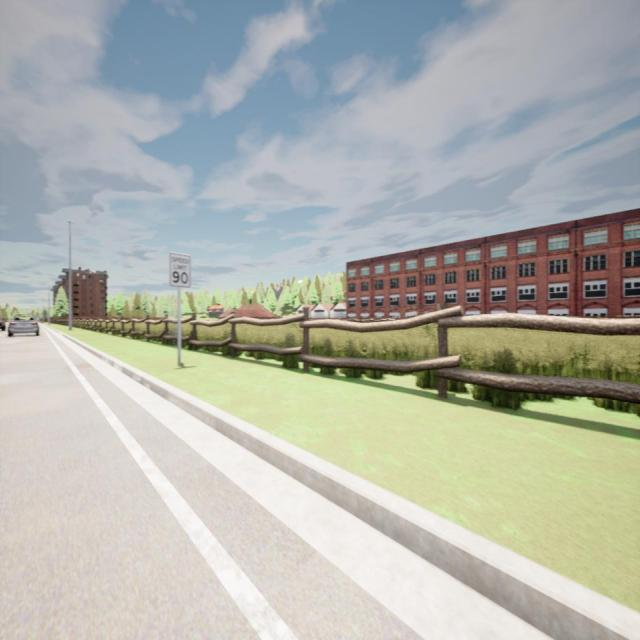Traffic_Signs: (170, 252, 192, 287)
Vehicle: (8, 314, 40, 337), (0, 317, 6, 331)
